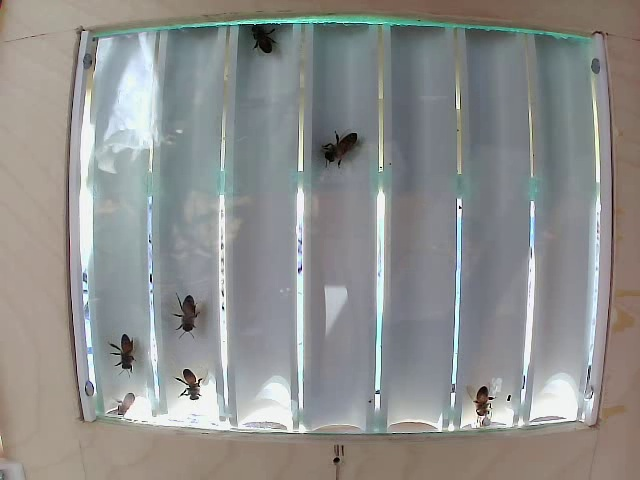bee: (317, 115, 380, 178), (106, 330, 146, 386), (248, 12, 279, 71), (170, 293, 208, 336), (165, 363, 213, 397)
